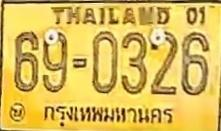0: (91, 30, 118, 93)
2: (150, 32, 178, 95)
3: (120, 31, 147, 94)
6: (180, 31, 210, 95), (14, 30, 38, 92)
9: (42, 30, 68, 92)
BKK: (39, 100, 178, 131)
